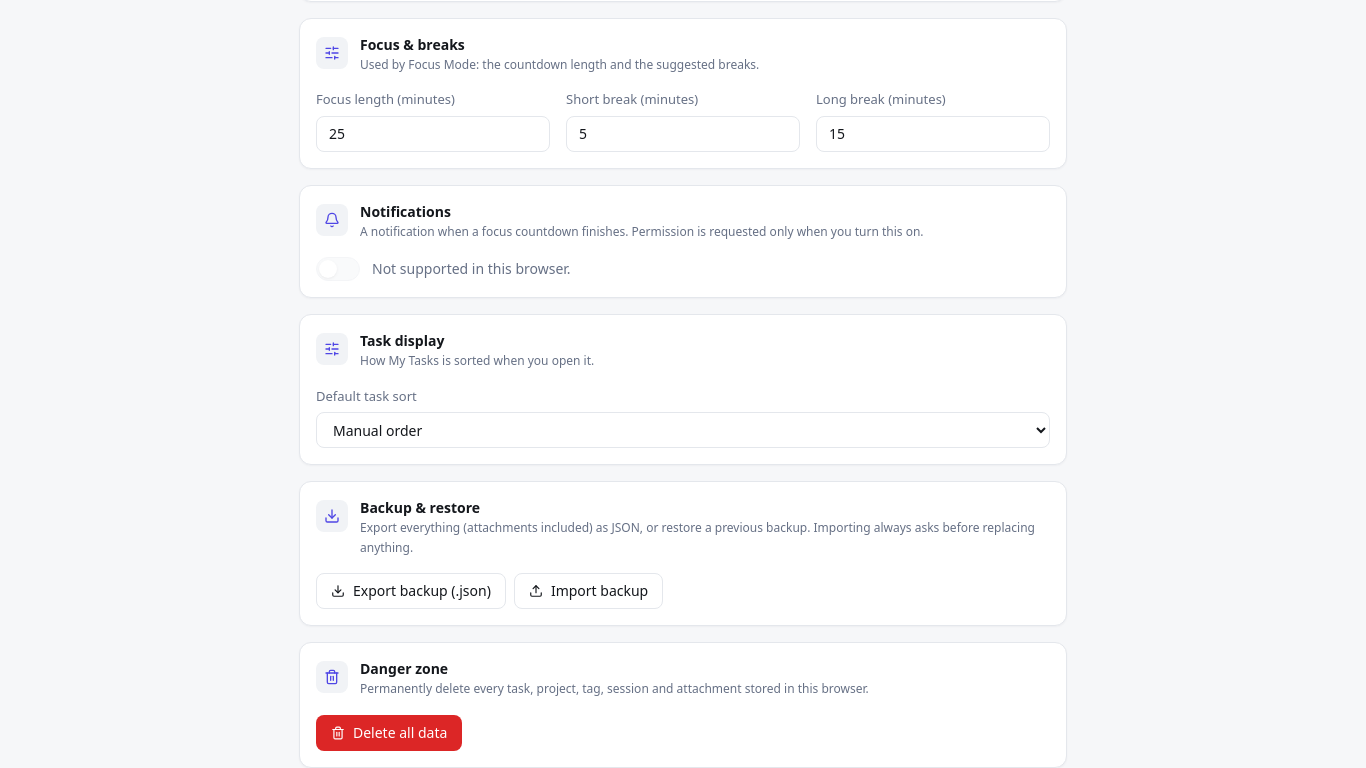
Scenario: SettingsView › exports a downloadable backup of the current data
(page scrolled)
Click the button "Export backup (.json)" at (411,591), box [316,573,506,609]
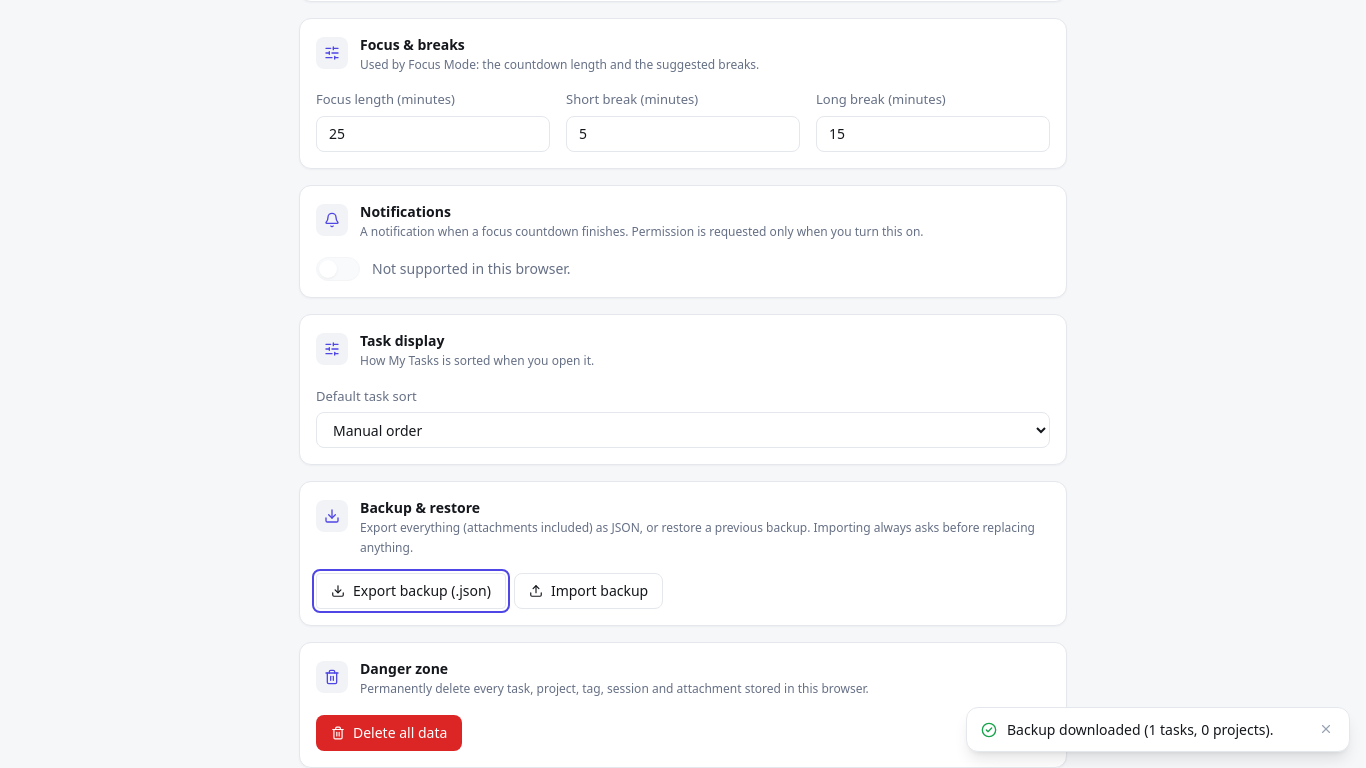
Check: the text "Backup downloaded (1 tasks, 0 projects)." is shown, box [1007,720,1307,739]
